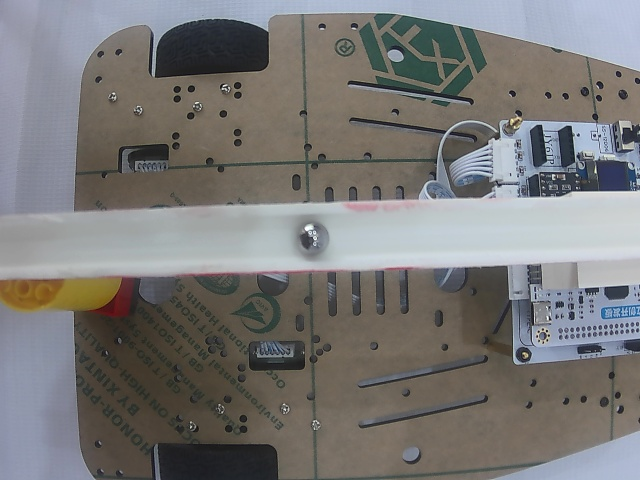steelball: (293, 220, 329, 256)
